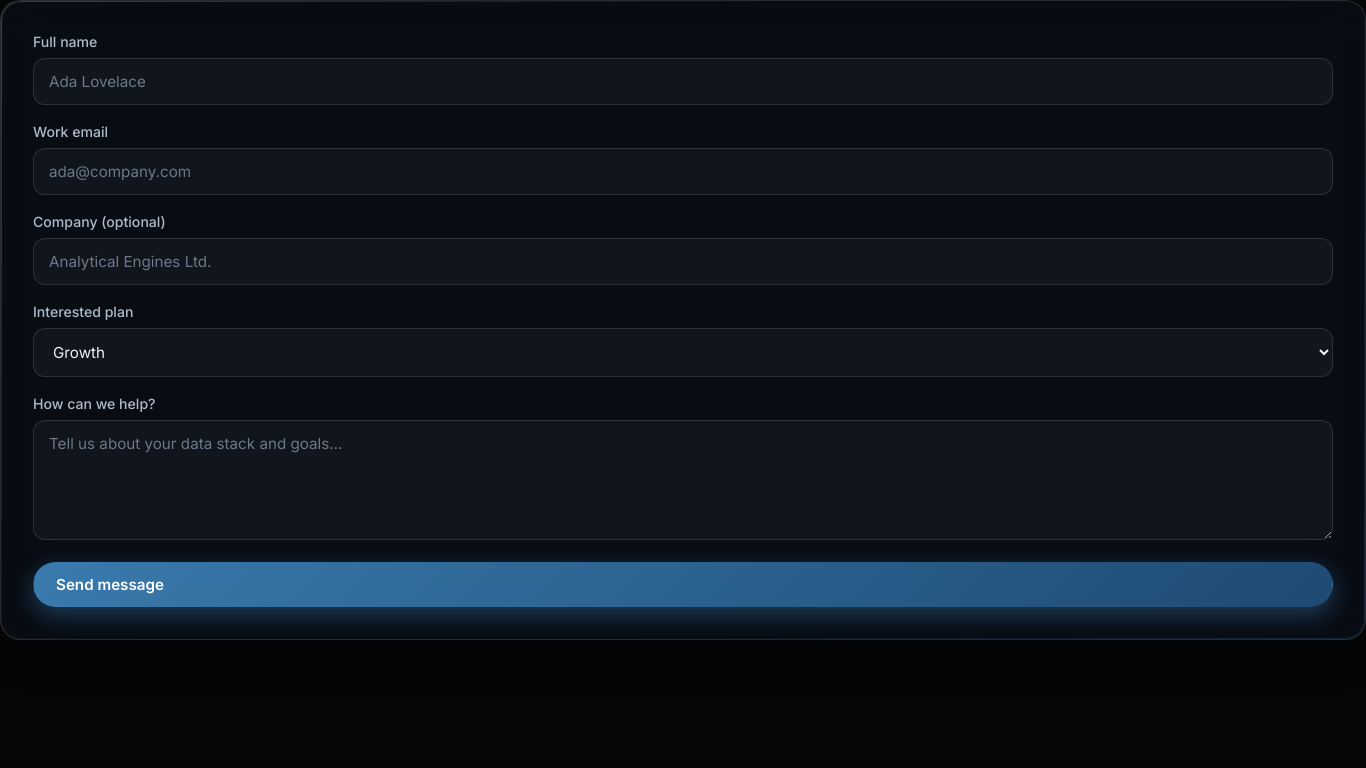
Scenario: <ContactForm /> › shows validation errors and does not submit when empty
The width and height of the screenshot is (1366, 768).
Click the button "Send message": (110, 584) top-left (33, 562), bottom-right (1333, 607)
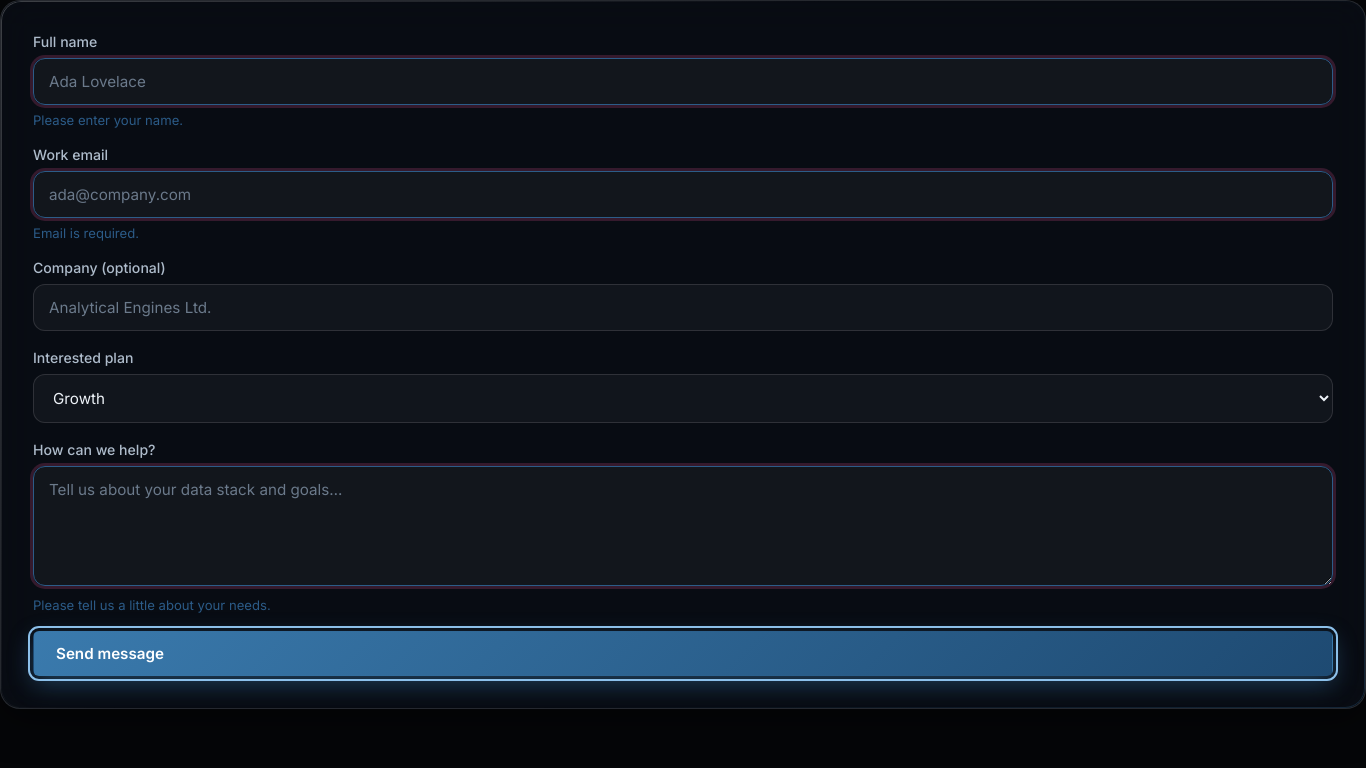
Now the text "Please enter your name." is shown, box top-left (33, 112), bottom-right (183, 128)
Now the text "Email is required." is shown, box top-left (33, 225), bottom-right (139, 241)
